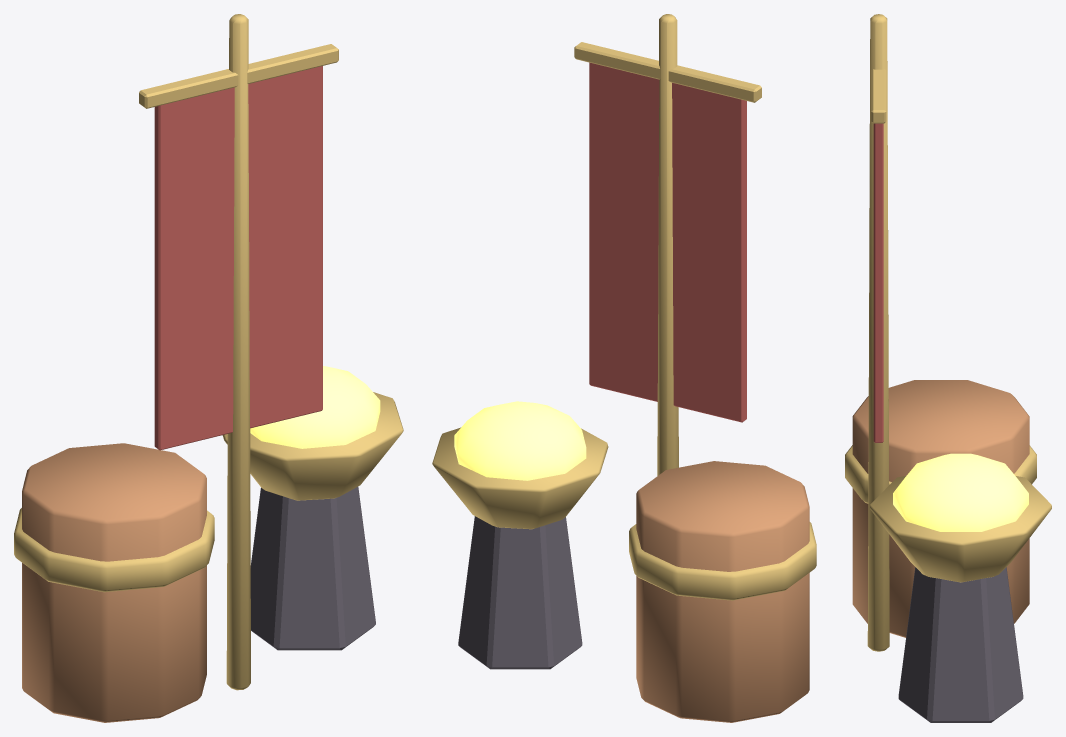
Rendered from w2_forge_cluster.glb.
3 views of the same model, side by side, from view 1: azimuth 30°, elevation 25°; view 2: azimuth 150°, elevation 25°; view 3: azimuth 270°, elevation 25° (orthographic). The views are drawn at different scales.
Visible parts, largest first — view 1: Pennant, Barrel, BarrelBand, BrazierStand, Embers; view 2: Pennant, Barrel, BarrelBand, BrazierStand, Embers; view 3: BarrelBand, Barrel, BrazierStand, Embers, Pennant.
Part boxes in pixels (x1,y1,x2,y2): Pennant: (154,66,322,450); Barrel: (22,443,206,722); BarrelBand: (14,14,403,690); BrazierStand: (250,487,375,650); Embers: (250,366,380,448); Pennant: (589,62,746,422); Barrel: (636,461,809,722); BarrelBand: (432,14,816,600); BrazierStand: (458,516,582,669); Embers: (454,401,586,480); BarrelBand: (845,14,1051,651); Barrel: (852,380,1029,637); BrazierStand: (898,567,1023,722); Embers: (893,453,1028,531); Pennant: (873,123,883,442).
Bounding box in the file's own units: 1.64 × 2.8 × 0.8307.
